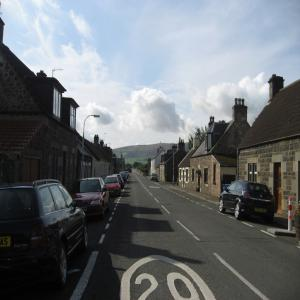Vehicle-registration-plate: (2, 238, 13, 250)
